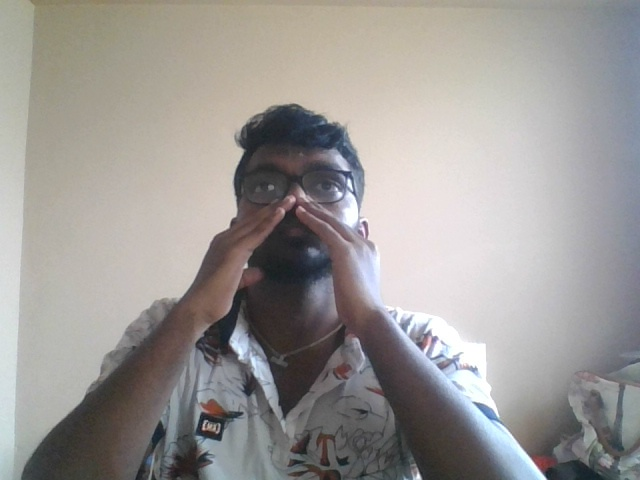Thank you: (178, 197, 457, 338)
